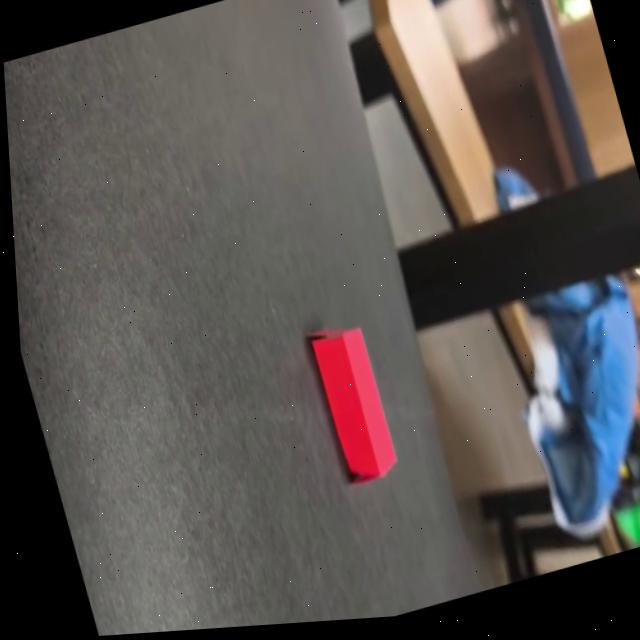red block: (308, 316, 402, 487)
